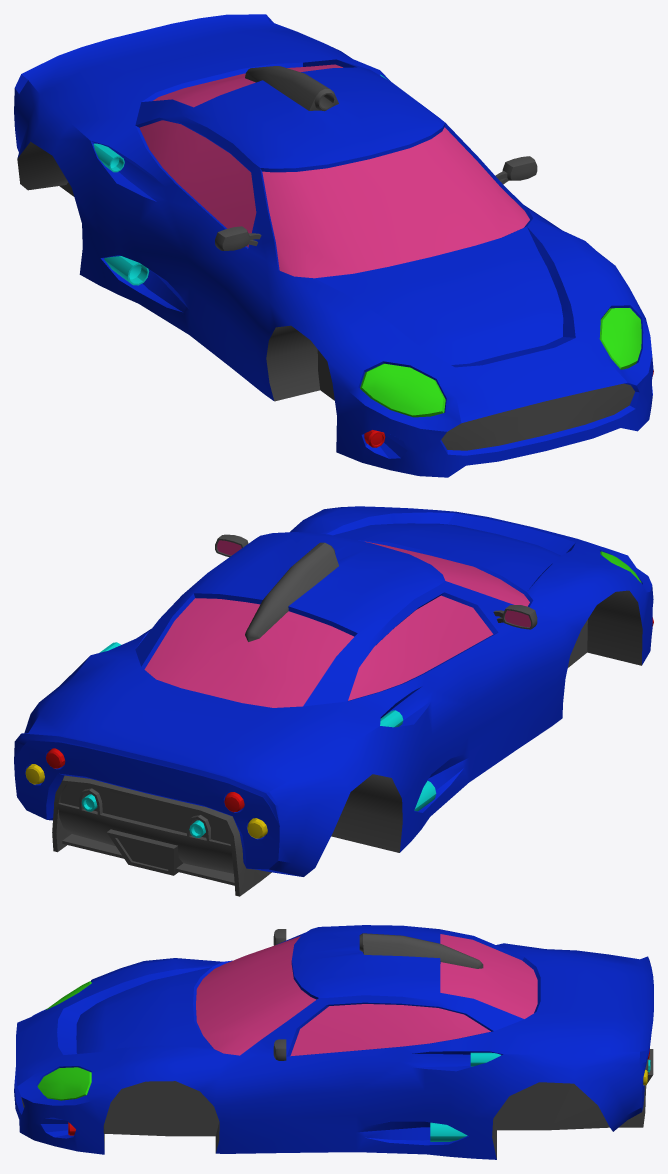
The picture shows the model from 3 angles, top to bottom: view 1: azimuth 30°, elevation 25°; view 2: azimuth 150°, elevation 25°; view 3: azimuth 270°, elevation 25°; orthographic projection. The views are drawn at different scales.
Parts seen in each view (by area): view 1: C45; view 2: C45; view 3: C45.
Part boxes in pixels (x1=…): C45: x1=14, y1=14, x2=653, y2=477; C45: x1=14, y1=506, x2=653, y2=896; C45: x1=14, y1=925, x2=653, y2=1159.
Size of the model in its own units: 83.88 by 52.37 by 185.
